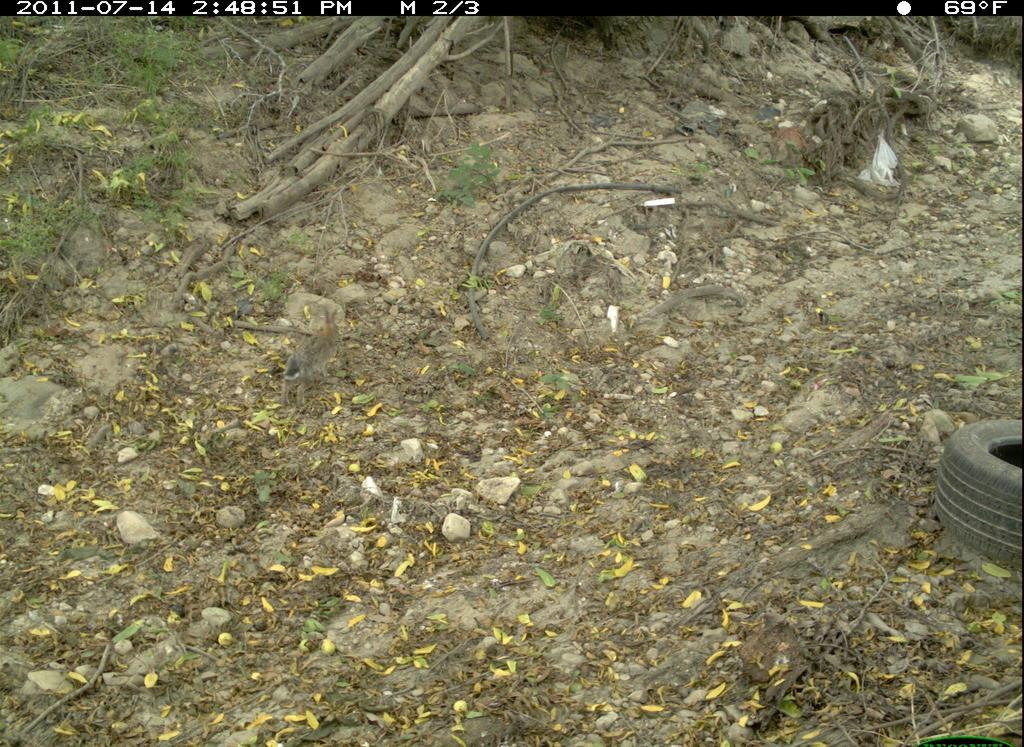rabbit: (276, 305, 351, 400)
